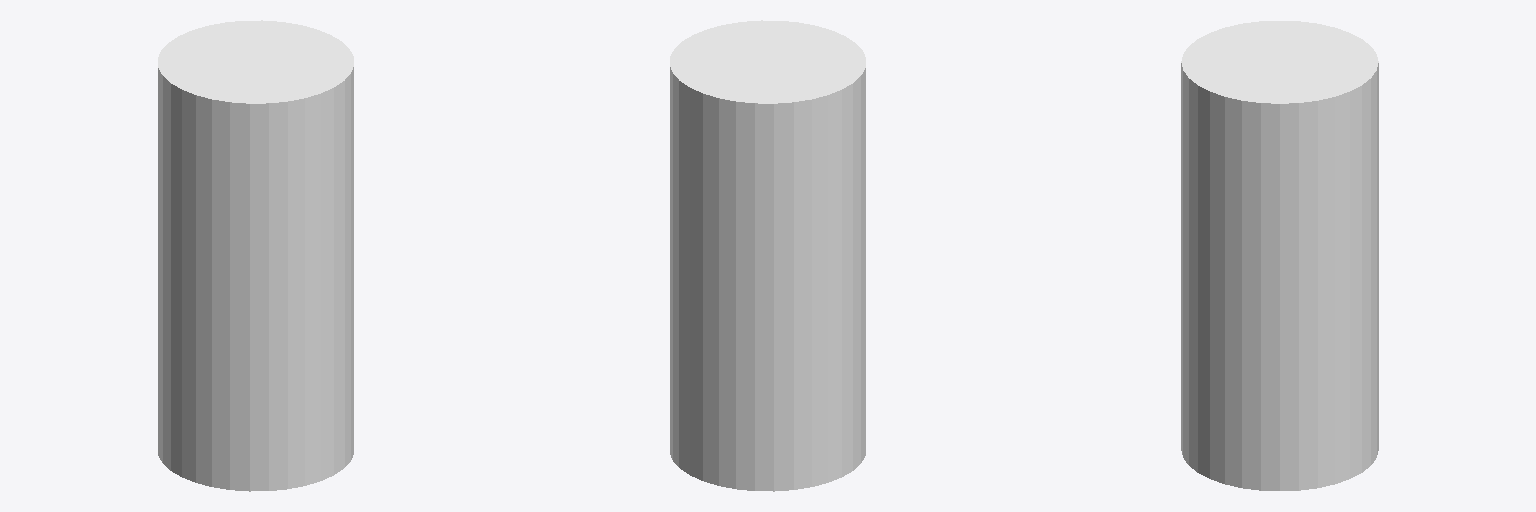
robot.urdf — geom_cylinder:
<?xml version='1.0' encoding='UTF-8'?>
<robot name="geom_cylinder">
  <link name="base">
    <inertial>
      <origin xyz="0.0 0.0 0.0" rpy="0.0 -0.0 0.0"/>
      <mass value="1.0"/>
      <inertia ixx="1.0" ixy="0.0" ixz="0.0" iyy="1.0" iyz="0.0" izz="1.0"/>
    </inertial>
    <visual>
      <geometry>
        <cylinder radius="0.38517922163009644" length="1.6697255373001099"/>
      </geometry>
      <material name="color[1.0, 1.0, 1.0, 1.0]"/>
      <origin xyz="0.0 0.0 0.0" rpy="0.0 0.0 0.0"/>
    </visual>
    <collision>
      <geometry>
        <cylinder radius="0.38517922163009644" length="1.6697255373001099"/>
      </geometry>
      <origin xyz="0.0 0.0 0.0" rpy="0.0 0.0 0.0"/>
    </collision>
  </link>
  <material name="color[1.0, 1.0, 1.0, 1.0]">
    <color rgba="1. 1. 1. 1."/>
  </material>
</robot>

--- Facts derived from the render (not from the file) ---
Views: 3 orthographic renders of the robot side by side, from view 1: azimuth 30°, elevation 25°; view 2: azimuth 150°, elevation 25°; view 3: azimuth 270°, elevation 25°.
Robot: geom_cylinder — 1 links, 0 joints (none); root link base; default pose: all joints at 0.
Visible links, largest first — view 1: base; view 2: base; view 3: base.
Link boxes in pixels (box(x1,y1,x2,y2)): base: box(158, 20, 353, 491); base: box(670, 20, 865, 491); base: box(1181, 21, 1378, 490).
Size in the robot's own frame: 0.7704 by 0.7704 by 1.67 metres.
Geometry: primitives only (box / cylinder / sphere), no mesh files.
